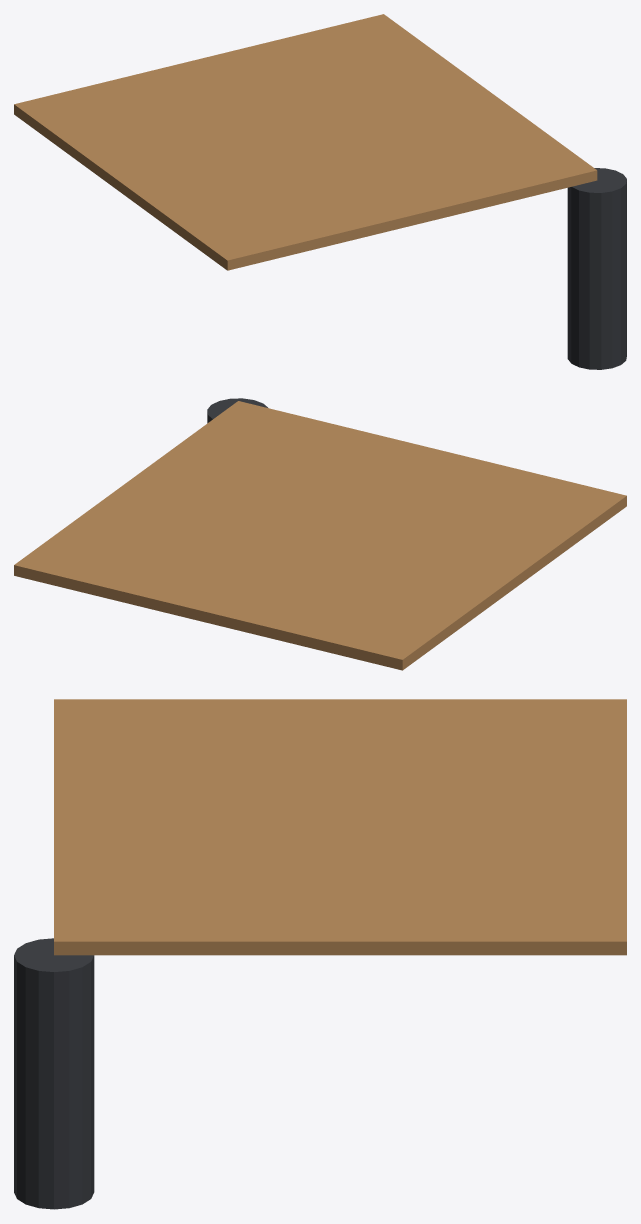
Rendered from patio_set_4top_36.glb.
3 renders of one model, top to bottom at view 1: azimuth 30°, elevation 25°; view 2: azimuth 150°, elevation 25°; view 3: azimuth 270°, elevation 25°, orthographic. The views are drawn at different scales.
Bounding box in the file's own units: 1.63 × 0.7366 × 1.63.
